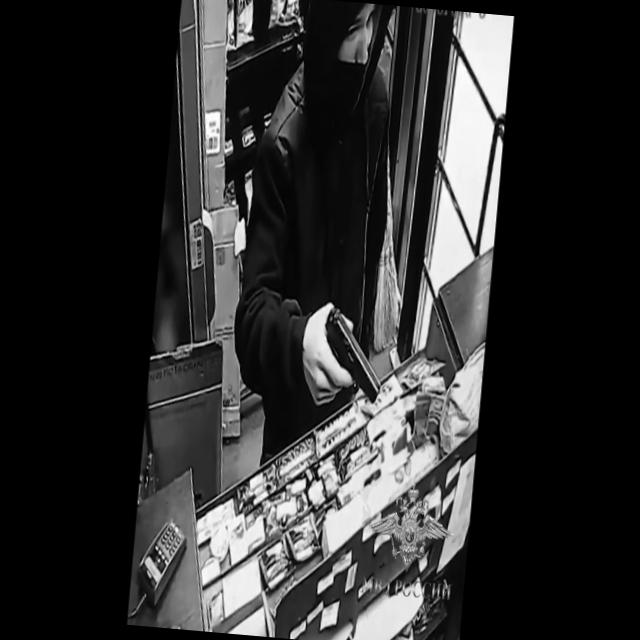gun: (300, 300, 386, 410)
person with a gun: (224, 0, 413, 460)
